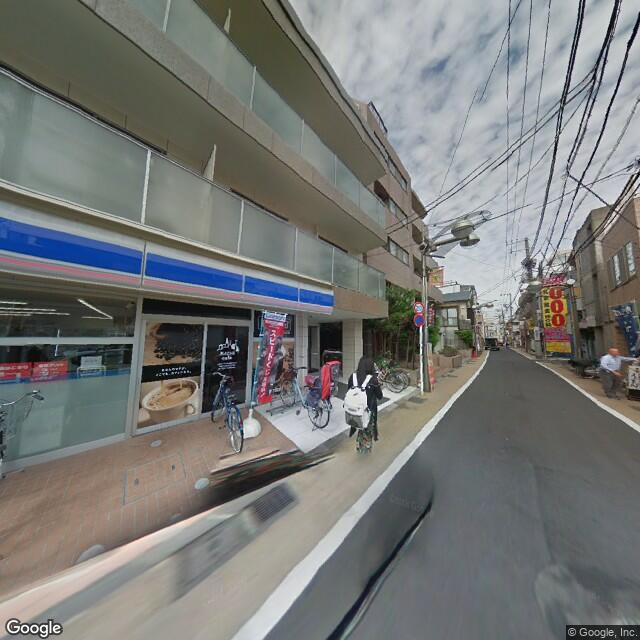lawson: (1, 196, 338, 322)
